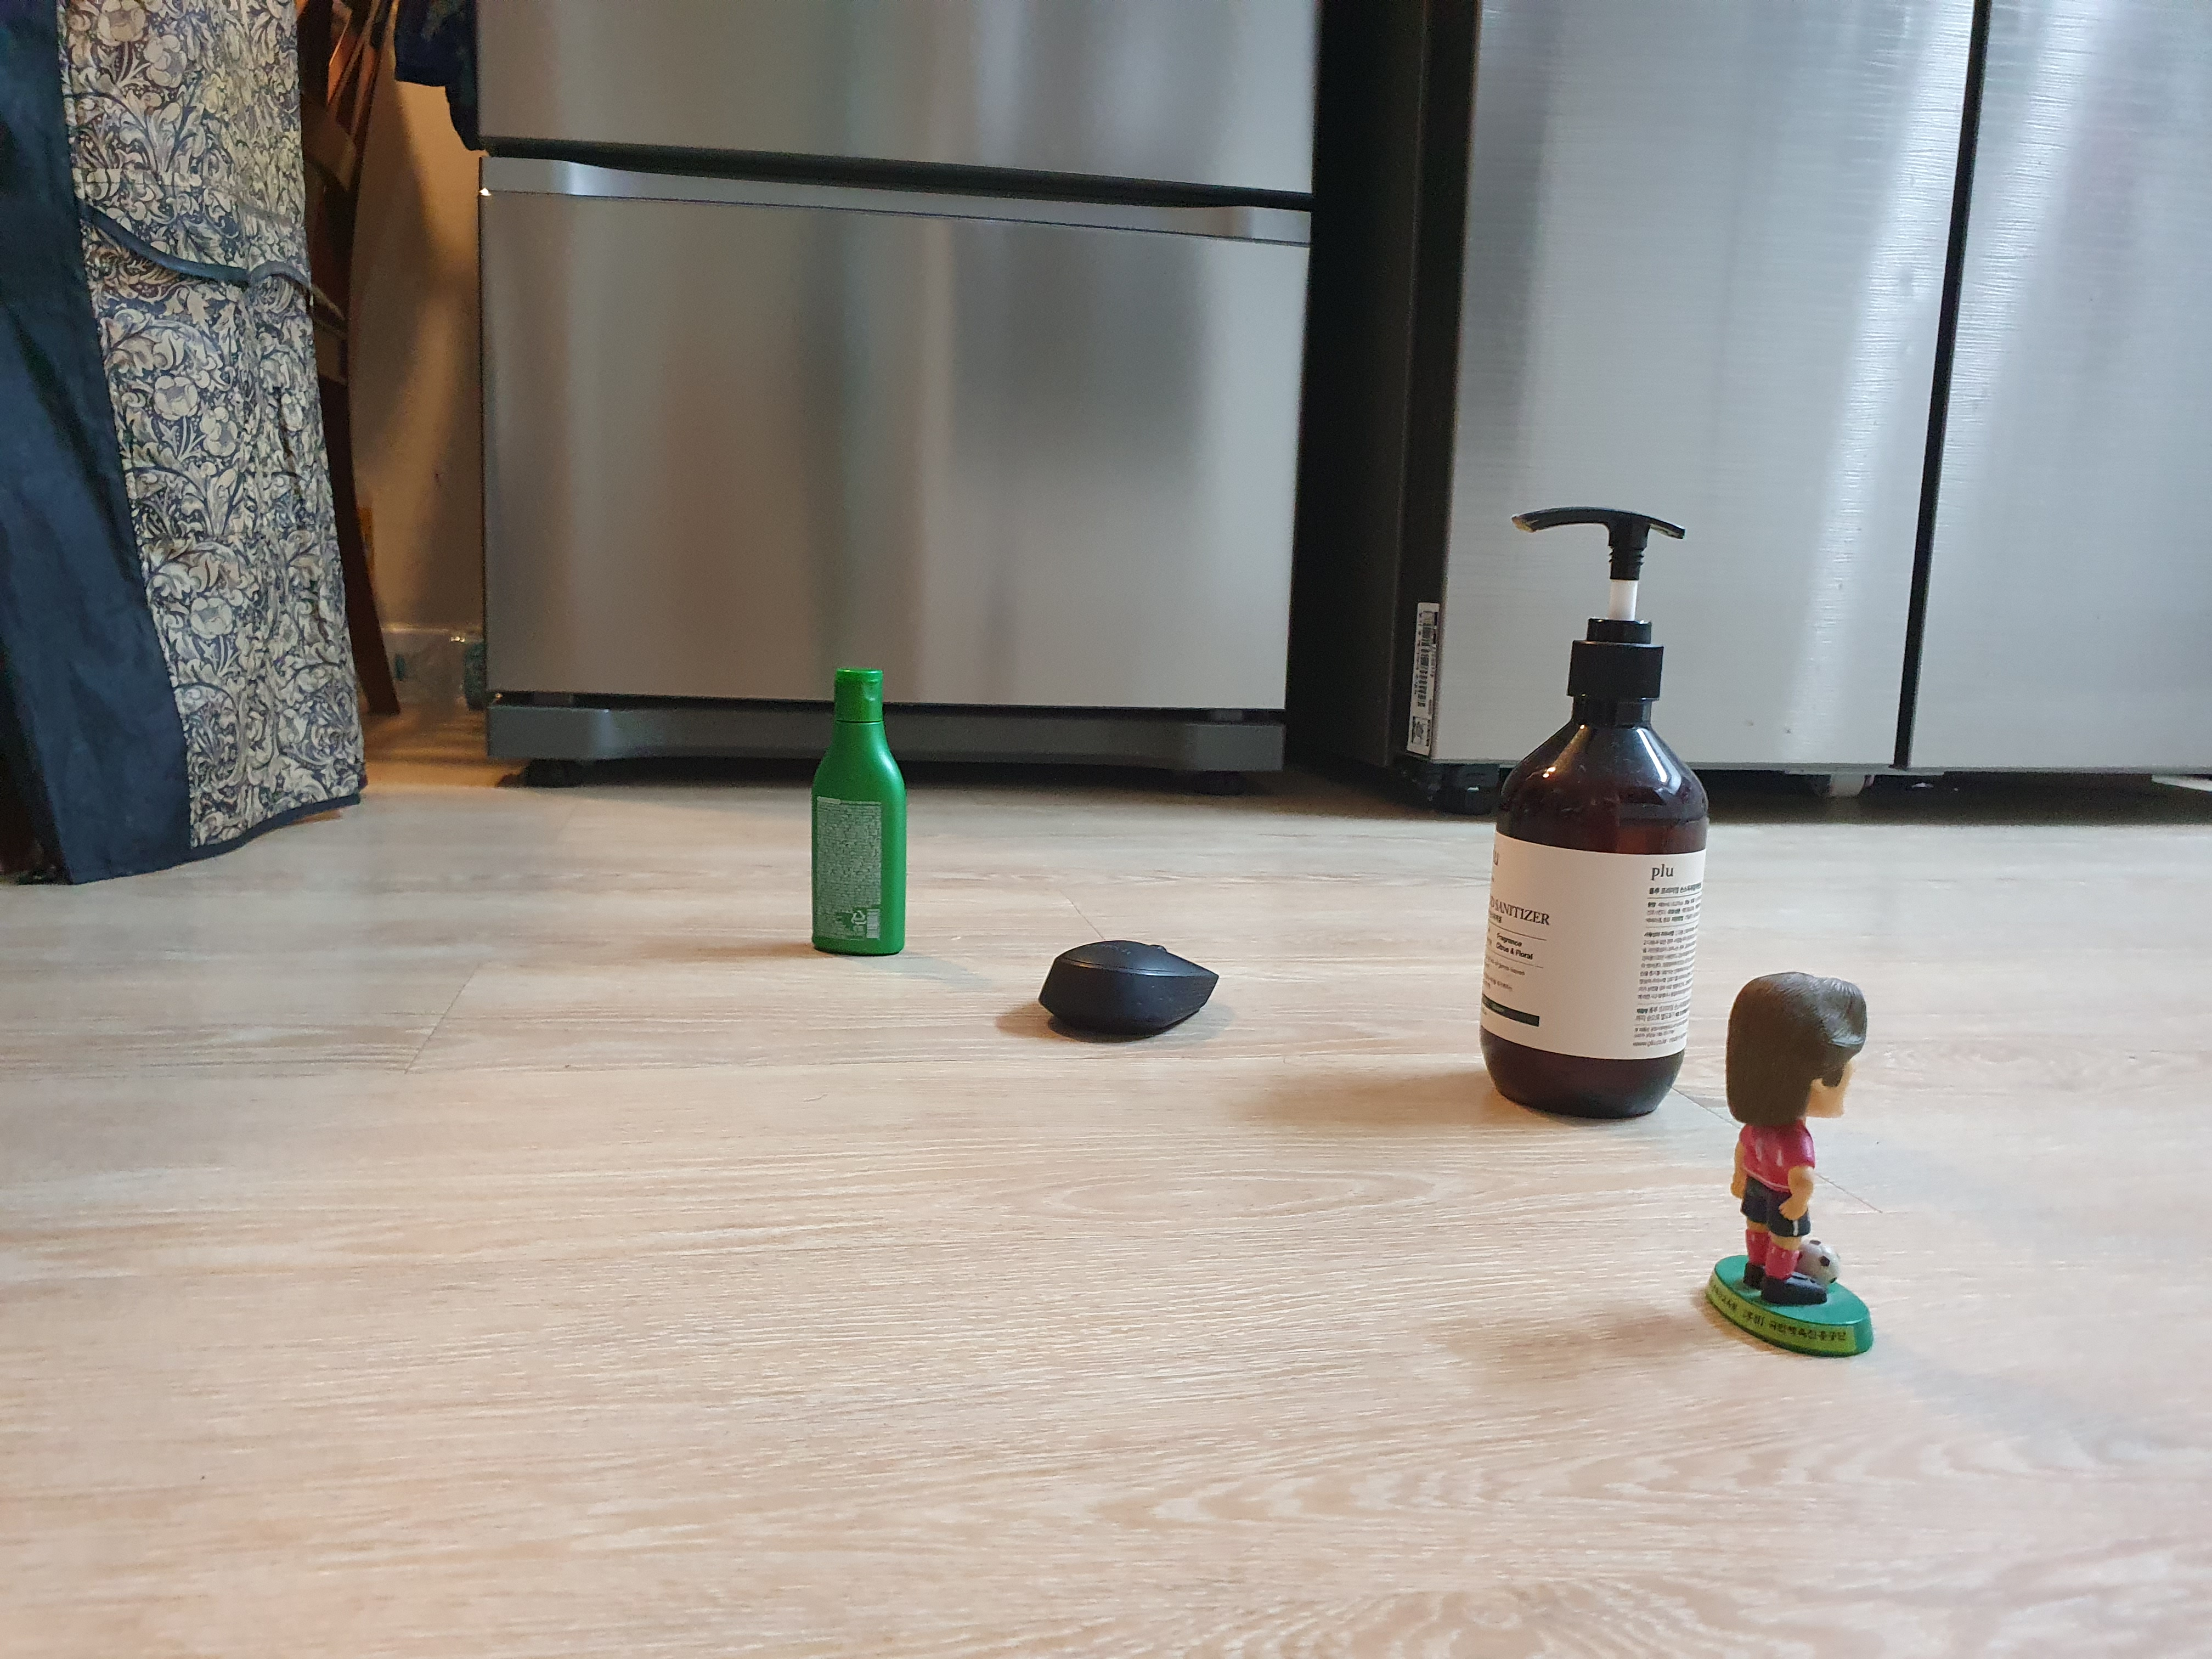bottle: (1393, 455, 1703, 1136)
mouse: (1021, 880, 1254, 1080)
shampoo: (738, 624, 967, 1009)
yoo: (1705, 931, 1923, 1399)
